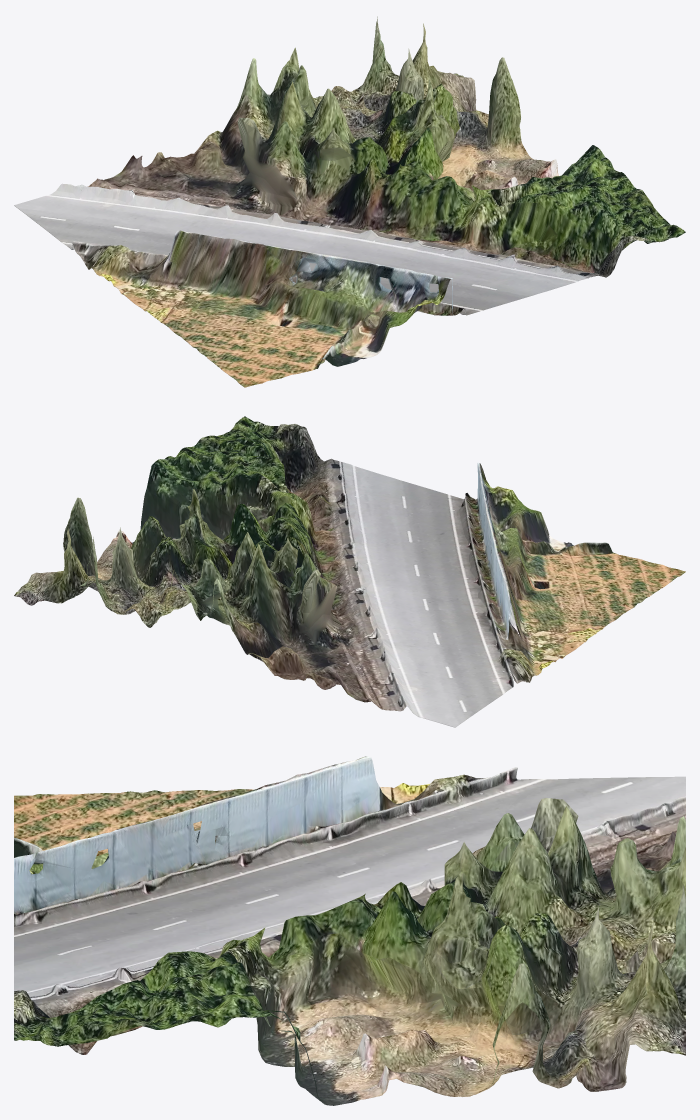
File: BlockYY_L20_321.glb
3 views of the same model, one above another, from view 1: azimuth 30°, elevation 25°; view 2: azimuth 150°, elevation 25°; view 3: azimuth 270°, elevation 25° (orthographic). The views are drawn at different scales.
Visible parts, largest first — view 1: rtc; view 2: rtc; view 3: rtc.
Part boxes in pixels (x1,y1,x2,y2): rtc: [14, 16, 685, 387]; rtc: [14, 416, 685, 727]; rtc: [14, 756, 685, 1105].
Size of the model in its own units: 39.32 by 10.7 by 35.62.
Materials: 3 (3 with a texture image).
